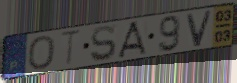9: (158, 14, 181, 52)
A: (116, 20, 148, 59)
O: (26, 34, 56, 72)
S: (89, 25, 118, 63)
T: (59, 28, 84, 68)
V: (185, 8, 214, 48)
